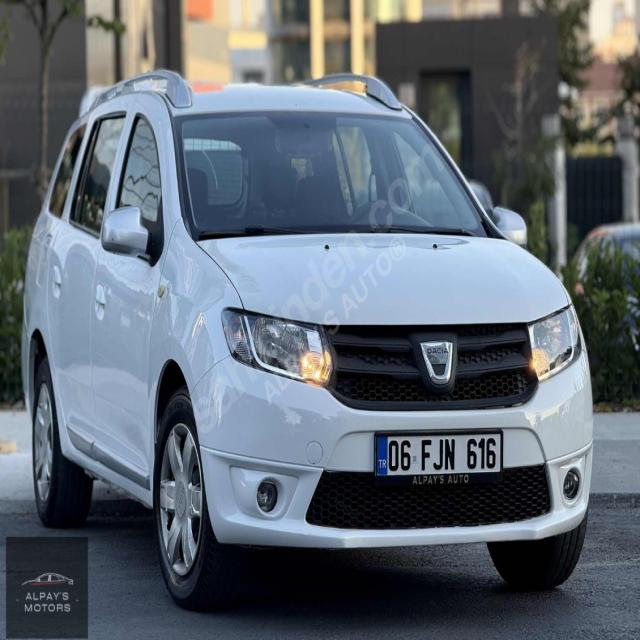dacia: (419, 338, 458, 390)
